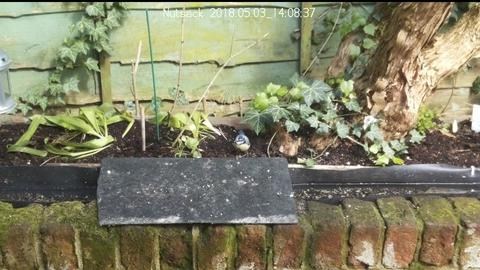blue tit: (232, 130, 250, 158)
